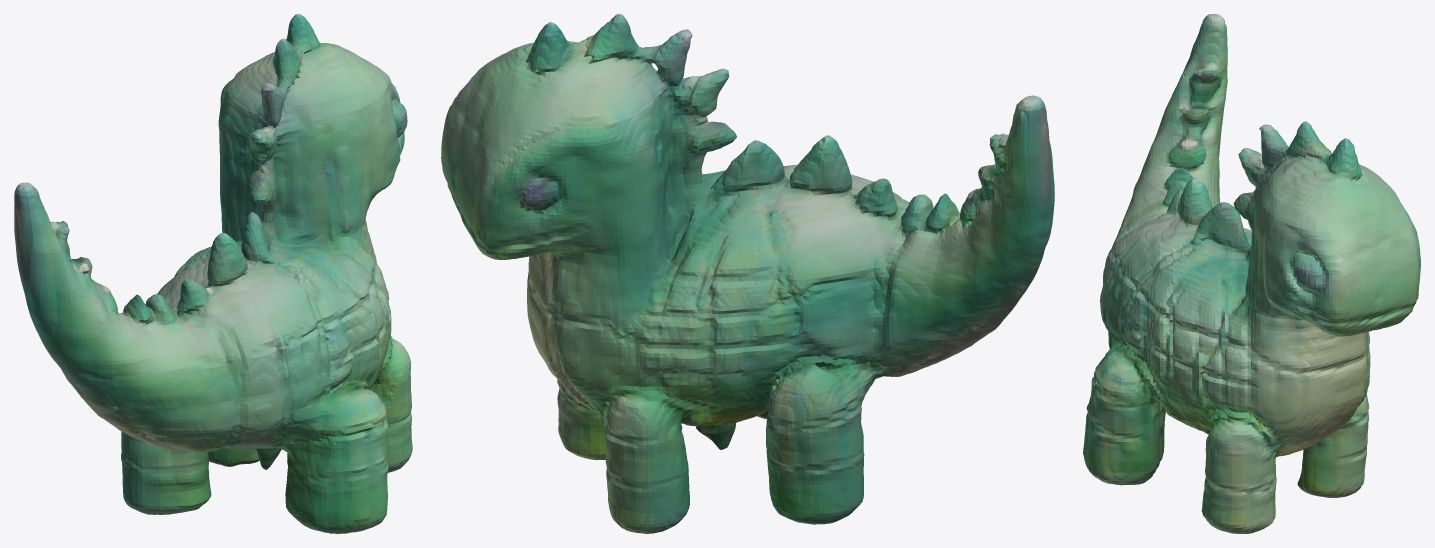
The picture shows the model from 3 angles, left to right: view 1: azimuth 30°, elevation 25°; view 2: azimuth 150°, elevation 25°; view 3: azimuth 270°, elevation 25°; orthographic projection. The views are drawn at different scales.
Parts seen in each view (by area): view 1: world; view 2: world; view 3: world.
Part boxes in pixels (x1,y1,x2,y2): world: [14, 14, 412, 533]; world: [441, 14, 1054, 533]; world: [1083, 14, 1420, 533].
Bounding box in the file's own units: 1.01 × 0.8931 × 0.7094.
